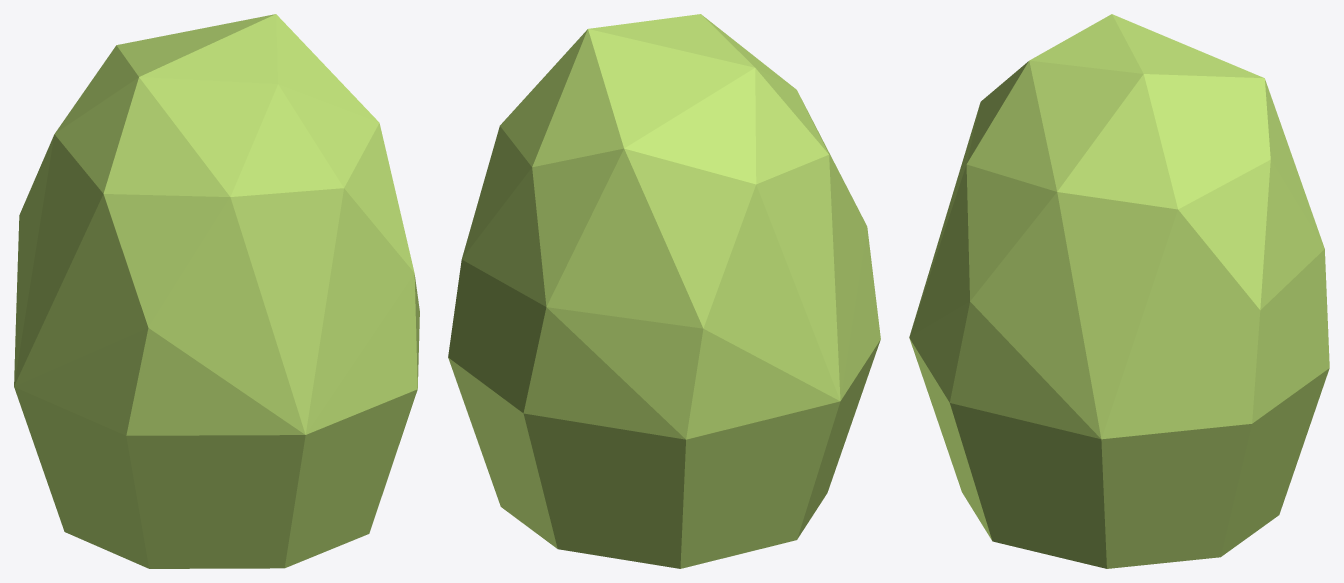
File: Bush_h_m_06.fbx
3 views of the same model, side by side, from view 1: azimuth 30°, elevation 25°; view 2: azimuth 150°, elevation 25°; view 3: azimuth 270°, elevation 25° (orthographic).
Parts seen in each view (by area): view 1: Bush_h_m_06; view 2: Bush_h_m_06; view 3: Bush_h_m_06.
Part boxes in pixels (x1,y1,x2,y2): Bush_h_m_06: [14, 14, 419, 568]; Bush_h_m_06: [448, 14, 880, 568]; Bush_h_m_06: [909, 14, 1329, 568].
Size of the model in its own units: 1.15 by 1.34 by 1.11.
